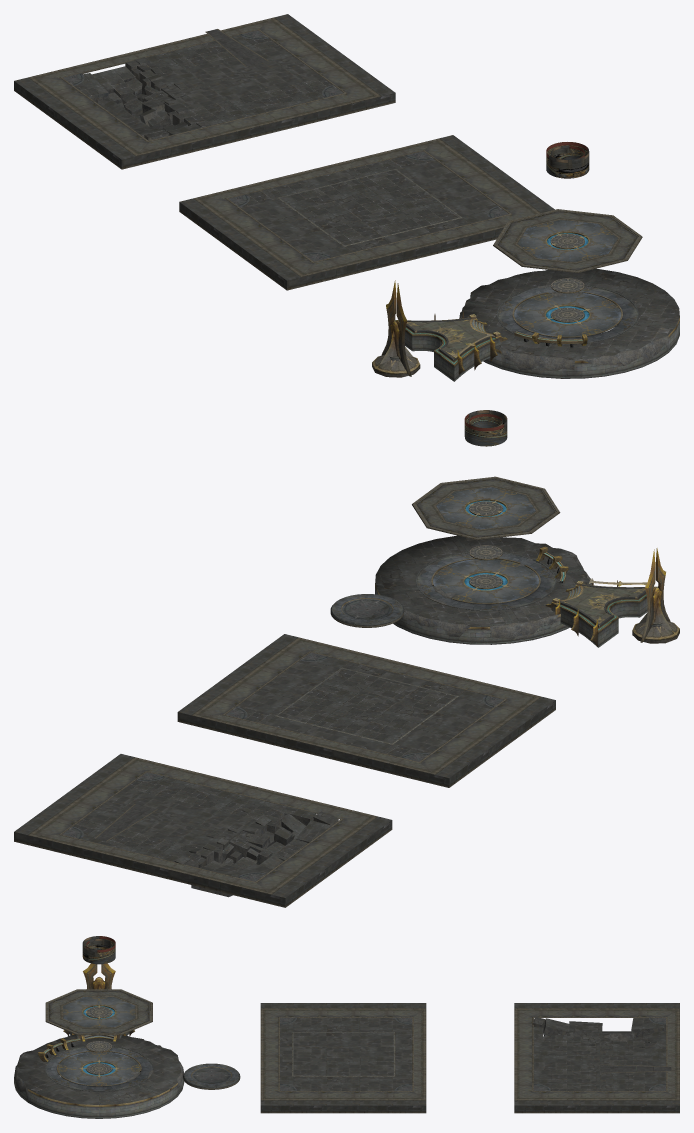
File: f_103_floor_b.FBX
3 renders of one model, top to bottom at view 1: azimuth 30°, elevation 25°; view 2: azimuth 150°, elevation 25°; view 3: azimuth 270°, elevation 25°, orthographic. The views are drawn at different scales.
Parts seen in each view (by area): view 1: f_101_floor_b17, f_101_floor_b14, f_101_floor_b12, f_101_floor_b16, f_101_floor_b20, f_101_floor_b01, f_101_floor_b07, f_101_floor_b02, f_101_floor_b10, f_101_floor_b15, f_101_floor_b19; view 2: f_101_floor_b17, f_101_floor_b14, f_101_floor_b12, f_101_floor_b16, f_101_floor_b20, f_101_floor_b01, f_101_floor_b07, f_101_floor_b02, f_101_floor_b18, f_101_floor_b10, f_101_floor_b15, f_101_floor_b19; view 3: f_101_floor_b17, f_101_floor_b14, f_101_floor_b12, f_101_floor_b16, f_101_floor_b20, f_101_floor_b01, f_101_floor_b02, f_101_floor_b18, f_101_floor_b15, f_101_floor_b10, f_101_floor_b19, f_101_floor_b09.
Boxes of the visible parts, x1,y1,x2,y2 form: f_101_floor_b17: (14, 14, 395, 169); f_101_floor_b14: (179, 135, 554, 290); f_101_floor_b12: (459, 268, 679, 378); f_101_floor_b16: (277, 168, 462, 246); f_101_floor_b20: (493, 209, 642, 272); f_101_floor_b01: (512, 292, 622, 337); f_101_floor_b07: (394, 311, 507, 381); f_101_floor_b02: (496, 285, 638, 344); f_101_floor_b10: (372, 280, 420, 377); f_101_floor_b15: (546, 142, 589, 178); f_101_floor_b19: (205, 29, 268, 66); f_101_floor_b17: (14, 754, 392, 907); f_101_floor_b14: (177, 634, 555, 787); f_101_floor_b12: (375, 535, 591, 644); f_101_floor_b16: (275, 667, 458, 744); f_101_floor_b20: (412, 476, 560, 540); f_101_floor_b01: (431, 558, 540, 604); f_101_floor_b07: (545, 575, 657, 647); f_101_floor_b02: (415, 552, 556, 610); f_101_floor_b18: (330, 594, 404, 627); f_101_floor_b10: (632, 548, 679, 643); f_101_floor_b15: (464, 410, 507, 446); f_101_floor_b19: (94, 804, 157, 841); f_101_floor_b17: (514, 1003, 679, 1113); f_101_floor_b14: (260, 1003, 426, 1113); f_101_floor_b12: (14, 1034, 184, 1118); f_101_floor_b16: (292, 1032, 395, 1076); f_101_floor_b20: (45, 989, 152, 1035); f_101_floor_b01: (57, 1051, 141, 1086); f_101_floor_b02: (45, 1046, 153, 1091); f_101_floor_b18: (183, 1063, 240, 1089); f_101_floor_b15: (82, 936, 115, 964); f_101_floor_b10: (83, 963, 115, 989); f_101_floor_b19: (600, 1064, 671, 1073); f_101_floor_b09: (38, 1038, 81, 1061).
Size of the model in its own units: 4802 by 3144 by 12394.
